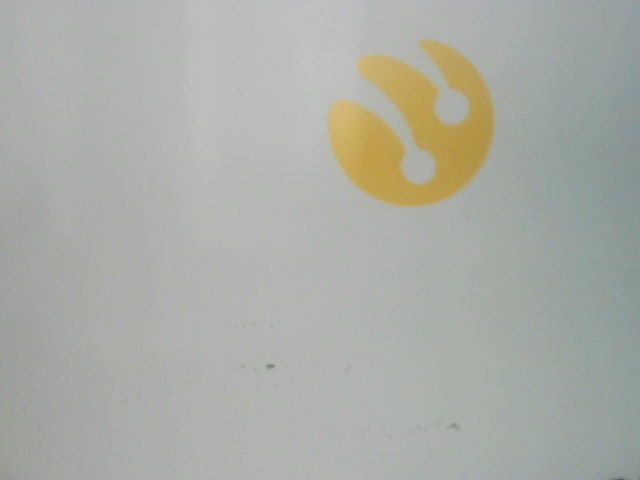AV_H3600Yellow: (311, 33, 497, 208)
